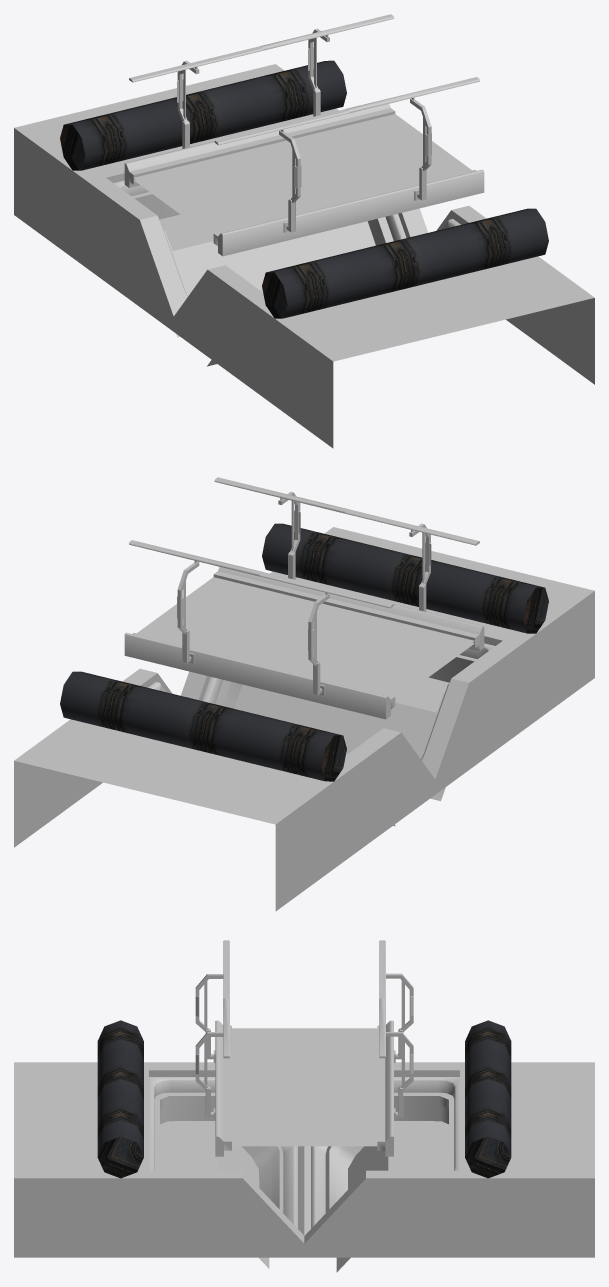
The model's file is Prop_Subflor_base_a_02.fbx.
3 views of the same model, one above another, from view 1: azimuth 30°, elevation 25°; view 2: azimuth 150°, elevation 25°; view 3: azimuth 270°, elevation 25° (orthographic). The views are drawn at different scales.
Visible parts, largest first — view 1: Prop_Subflor_base_a_02; view 2: Prop_Subflor_base_a_02; view 3: Prop_Subflor_base_a_02.
Part boxes in pixels (x1=…): Prop_Subflor_base_a_02: x1=14, y1=14, x2=594, y2=448; Prop_Subflor_base_a_02: x1=14, y1=477, x2=594, y2=911; Prop_Subflor_base_a_02: x1=14, y1=940, x2=594, y2=1272.
Bounding box in the file's own units: 2837 × 6000 × 2543.
